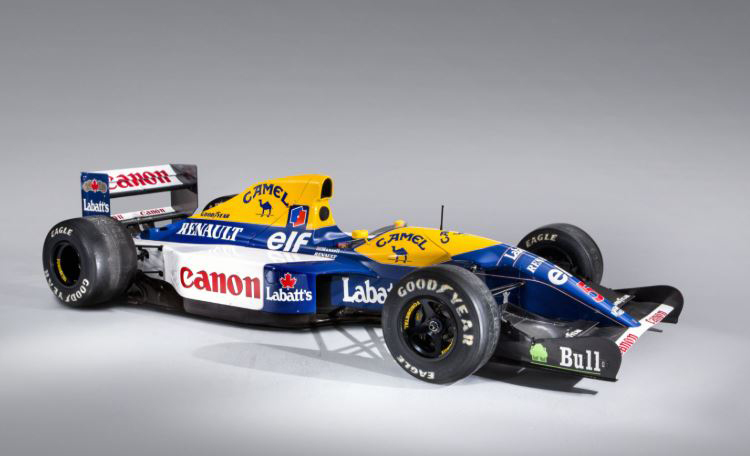F1 Car: (38, 155, 687, 385)
